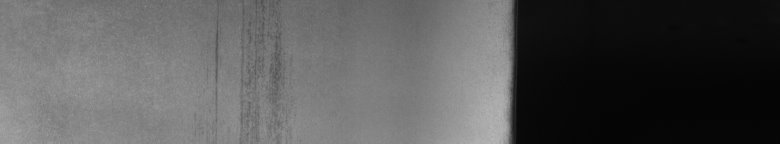ka: (207, 4, 287, 136)
